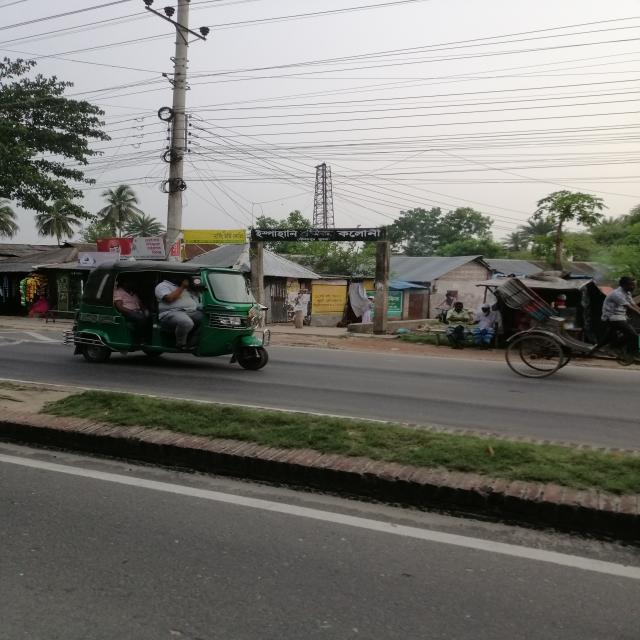CNG: (65, 253, 281, 374)
